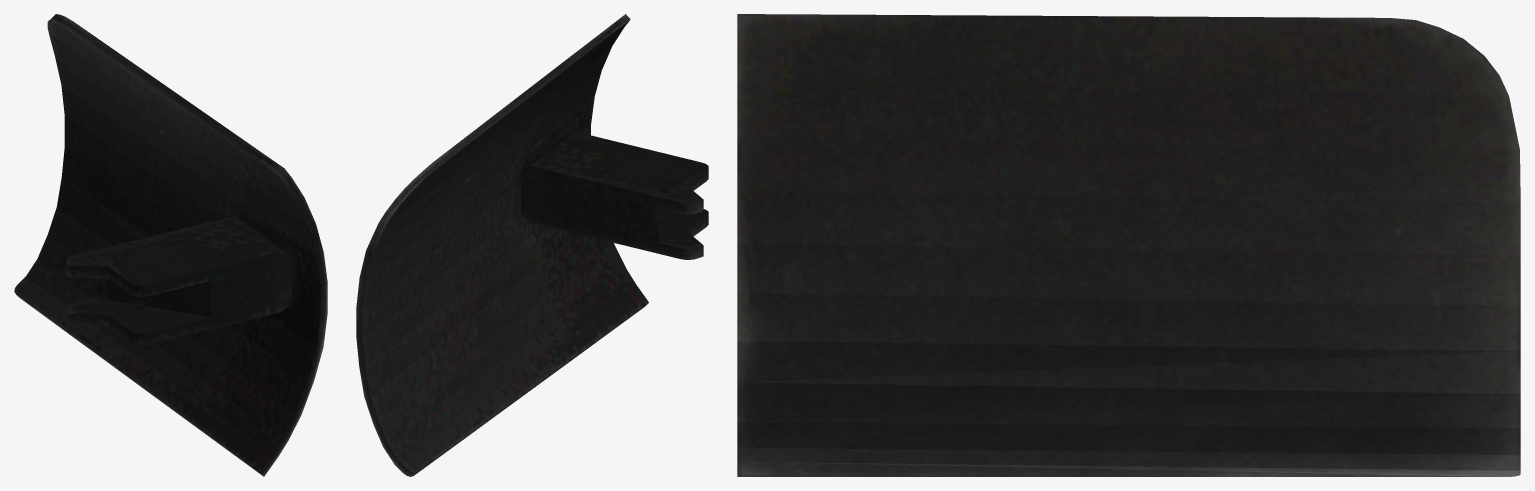
3 views of the same model, side by side, from view 1: azimuth 30°, elevation 25°; view 2: azimuth 150°, elevation 25°; view 3: azimuth 270°, elevation 25° (orthographic). The views are drawn at different scales.
Parts seen in each view (by area): view 1: TW_60db29ce99594040e04c4a27_PZ_Import; view 2: TW_60db29ce99594040e04c4a27_PZ_Import; view 3: TW_60db29ce99594040e04c4a27_PZ_Import.
Boxes of the visible parts, x1,y1,x2,y2 form: TW_60db29ce99594040e04c4a27_PZ_Import: [14, 14, 327, 476]; TW_60db29ce99594040e04c4a27_PZ_Import: [356, 14, 708, 476]; TW_60db29ce99594040e04c4a27_PZ_Import: [737, 14, 1520, 476].
Size of the model in its own units: 0.0148 by 0.033 by 0.0223.
1 material, 1 textured.
